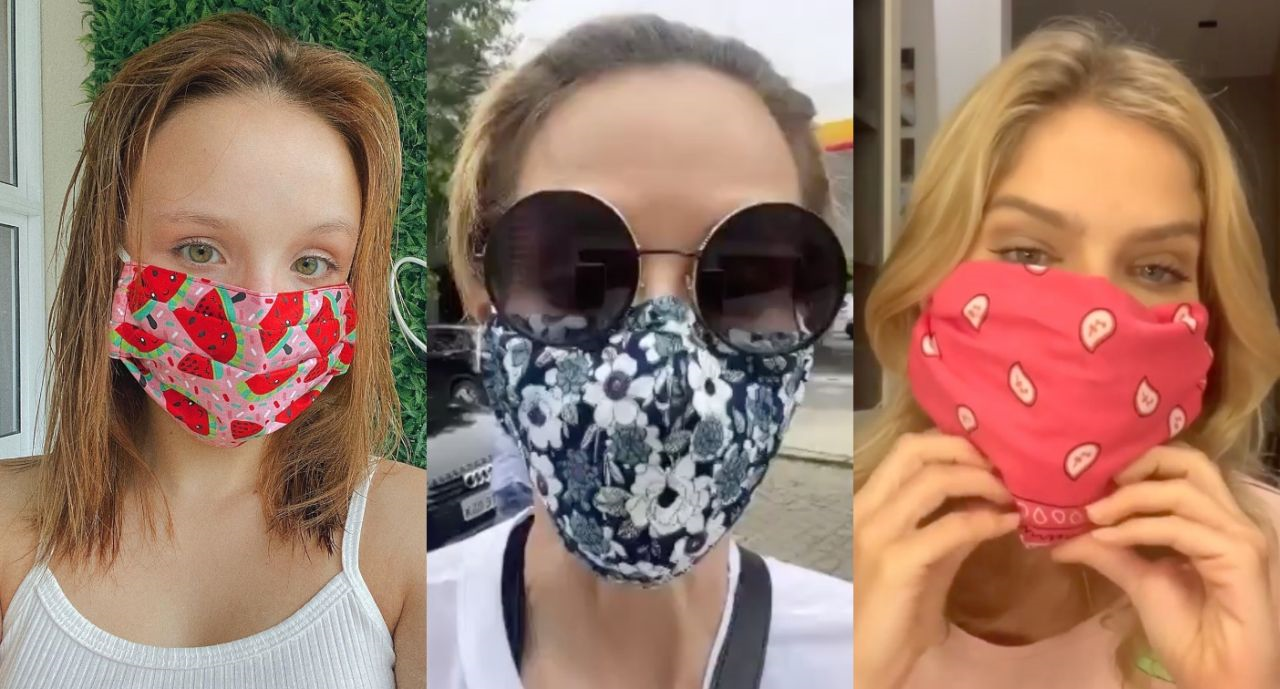with_mask: (447, 31, 854, 604), (869, 78, 1273, 574), (76, 118, 393, 465)
